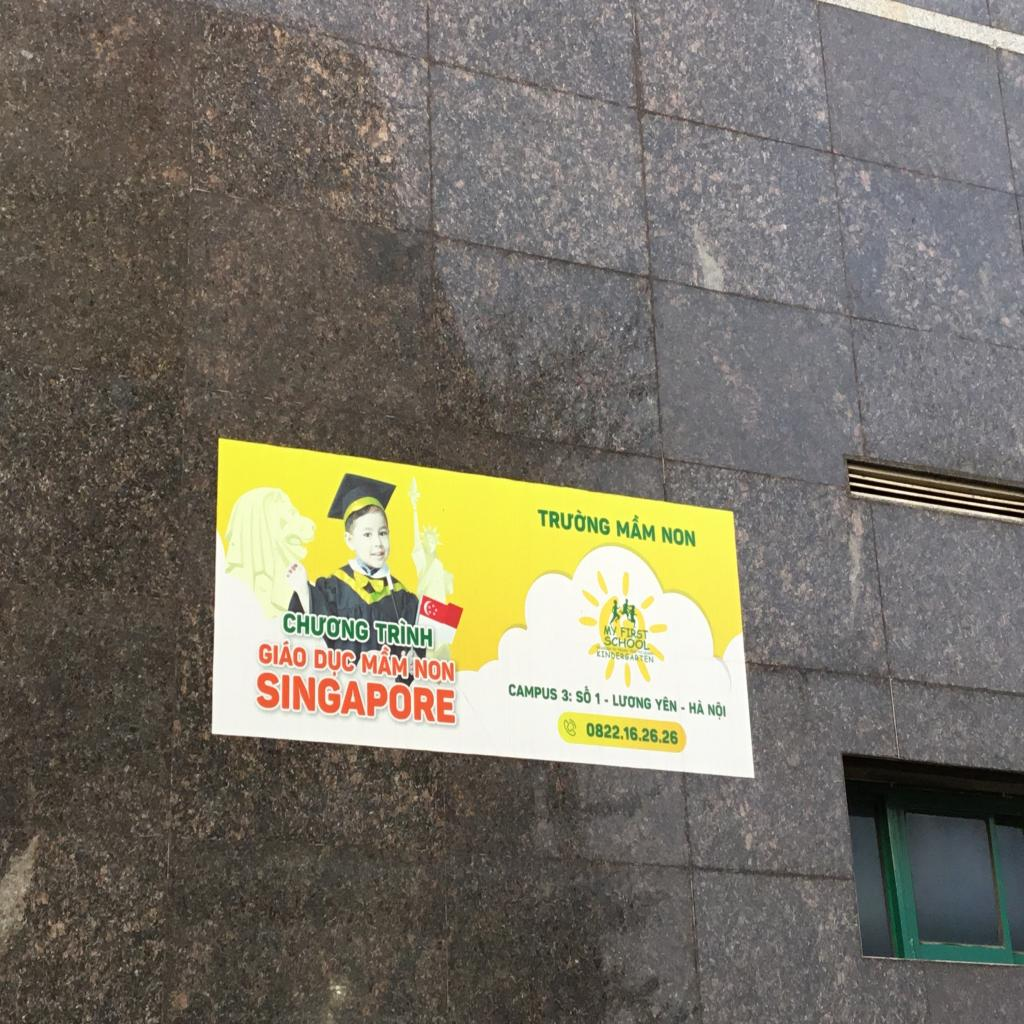text: (253, 670, 458, 730), (280, 608, 371, 646), (581, 718, 680, 746), (536, 504, 611, 537), (372, 616, 435, 652), (360, 645, 410, 683), (257, 638, 310, 673), (411, 654, 457, 688), (312, 645, 357, 679), (614, 512, 658, 545), (506, 680, 559, 704), (660, 523, 698, 550), (609, 690, 651, 712), (604, 635, 650, 651), (620, 624, 649, 642), (706, 698, 728, 721), (653, 694, 680, 712), (575, 682, 593, 708), (688, 697, 706, 716), (559, 687, 573, 707), (602, 623, 619, 636), (593, 690, 602, 708)
